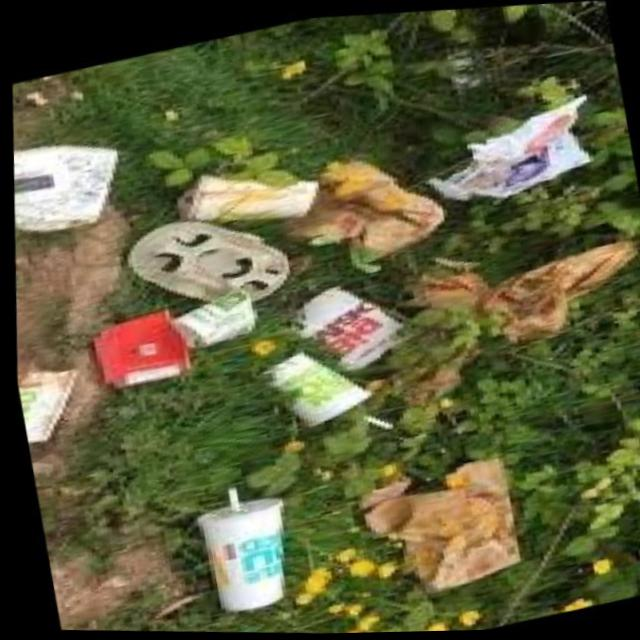clothes: (114, 185, 315, 324)
metal: (401, 87, 623, 217)
trash: (340, 442, 557, 614), (404, 213, 640, 362), (243, 320, 418, 456), (184, 457, 316, 626), (299, 136, 450, 266), (159, 130, 334, 239), (70, 281, 221, 404), (7, 111, 130, 235), (12, 330, 97, 456), (161, 269, 281, 347)
